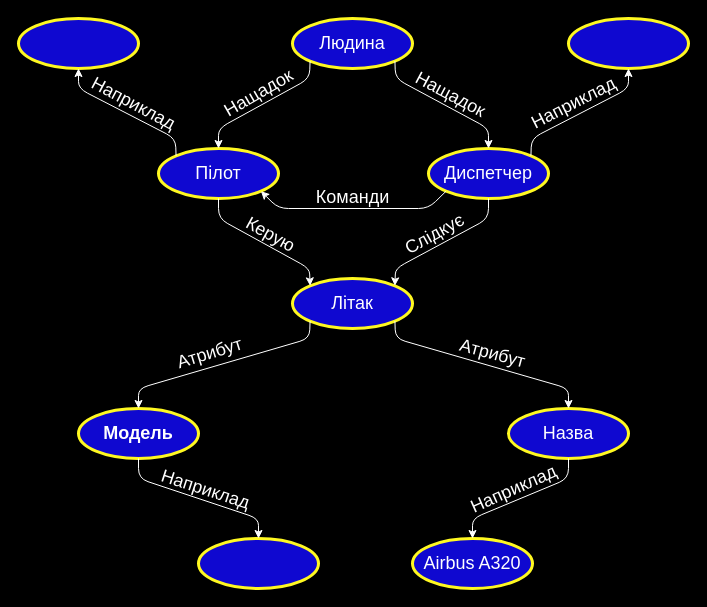
Some shapes in this 707 by 607 pixel diagram are drawn without their labels. The centre of each missing label's shape, as x and y in pixels:
БПЛА X-47B: point (258, 563)
Роман: point (628, 43)
Сева: point (78, 43)
